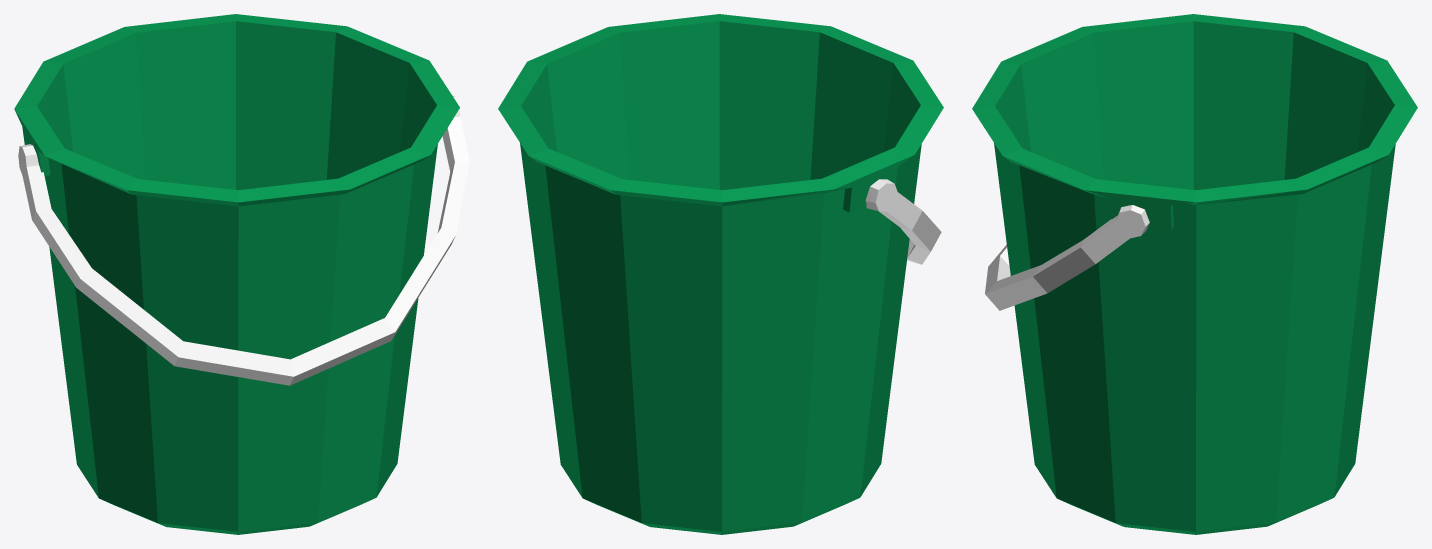
The model's file is Bucket.glb.
3 renders of one model, left to right at view 1: azimuth 30°, elevation 25°; view 2: azimuth 150°, elevation 25°; view 3: azimuth 270°, elevation 25°, orthographic.
Visible parts, largest first — view 1: Node; view 2: Node; view 3: Node.
Part boxes in pixels (bbox=[...]): Node: bbox=[14, 14, 469, 534]; Node: bbox=[498, 14, 943, 534]; Node: bbox=[972, 14, 1417, 534].
Bounding box in the file's own units: 2.99 × 2.67 × 2.92.
